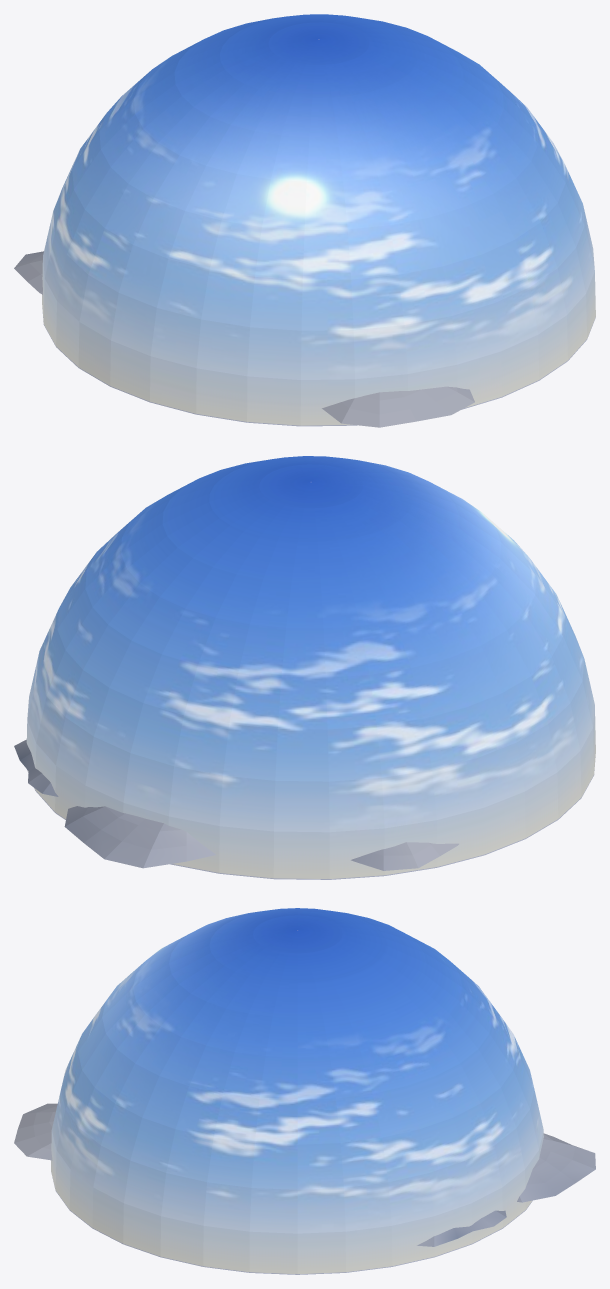
The model's file is lugar-cdmx-ciudad.glb.
3 views of the same model, one above another, from view 1: azimuth 30°, elevation 25°; view 2: azimuth 150°, elevation 25°; view 3: azimuth 270°, elevation 25° (orthographic). The views are drawn at different scales.
Visible parts, largest first — view 1: planoC, vertT; view 2: planoC, vertT; view 3: planoC, vertT.
Boxes of the visible parts, <box> form: planoC: <box>42,14,595,426</box>; vertT: <box>14,251,474,427</box>; planoC: <box>26,456,595,879</box>; vertT: <box>14,739,458,870</box>; planoC: <box>51,908,543,1274</box>; vertT: <box>14,1103,595,1246</box>.
Size of the model in its own units: 6584 by 3530 by 7760.
13 materials, 12 textured.
